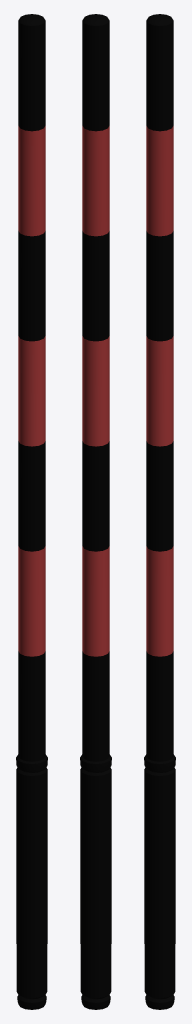
The model's file is Sea_Mark_Shoal.fbx.
The picture shows the model from 3 angles, left to right: view 1: azimuth 30°, elevation 25°; view 2: azimuth 150°, elevation 25°; view 3: azimuth 330°, elevation 25°; orthographic projection.
Visible parts, largest first — view 1: Mdl_SeaSign_Shoal; view 2: Mdl_SeaSign_Shoal; view 3: Mdl_SeaSign_Shoal.
Boxes of the visible parts, x1=… form: Mdl_SeaSign_Shoal: x1=16, y1=14, x2=47, y2=1009; Mdl_SeaSign_Shoal: x1=80, y1=14, x2=111, y2=1009; Mdl_SeaSign_Shoal: x1=144, y1=14, x2=175, y2=1009.
Bounding box in the file's own units: 0.0583 × 2.01 × 0.0583.
